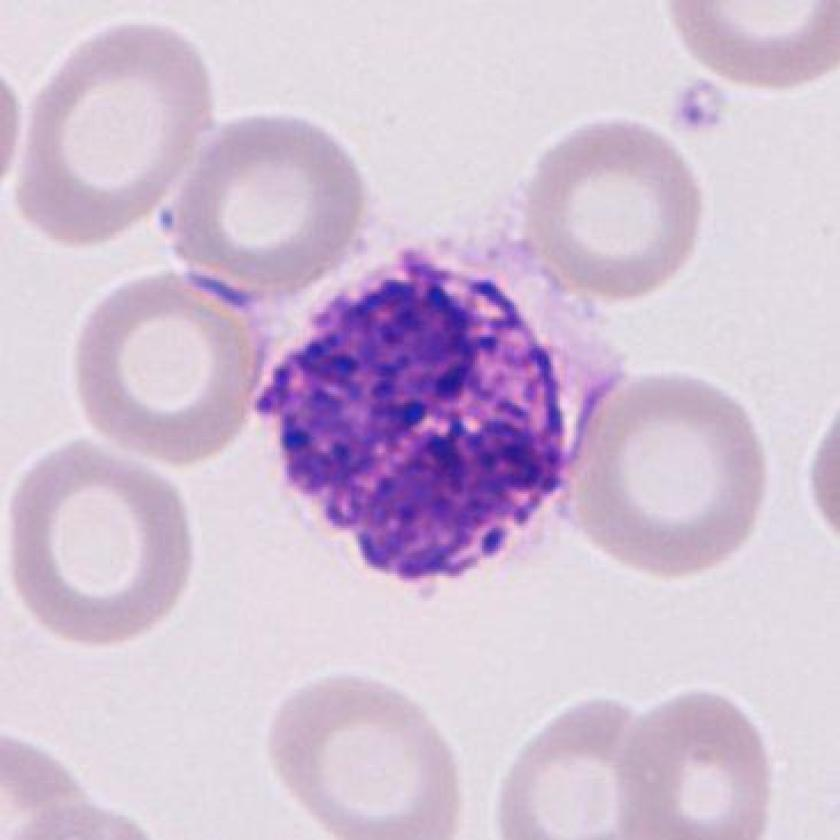basophil: (251, 247, 584, 600)
